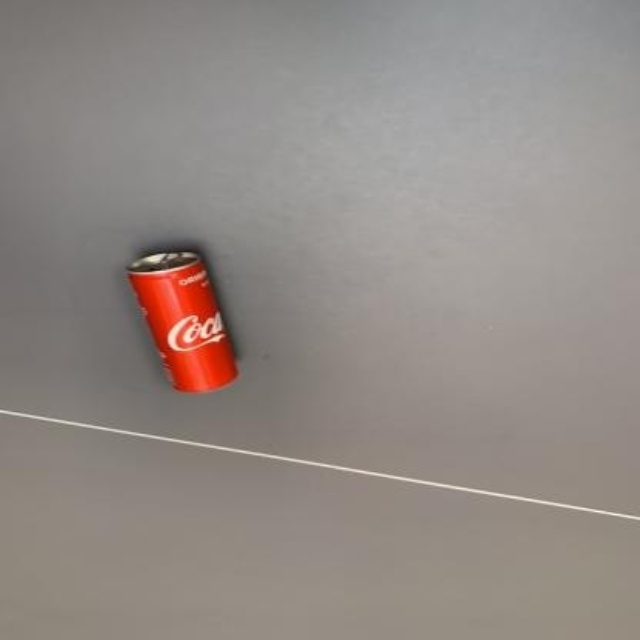trash: (126, 251, 235, 391)
